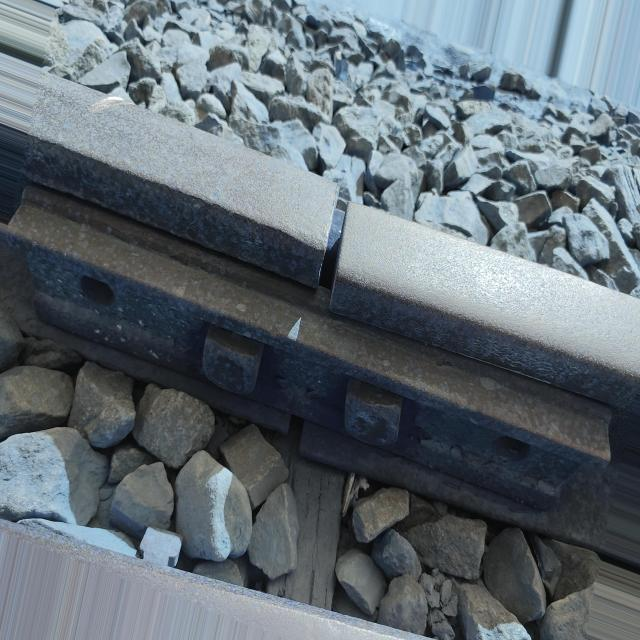Defective Joint: (6, 191, 632, 511)
